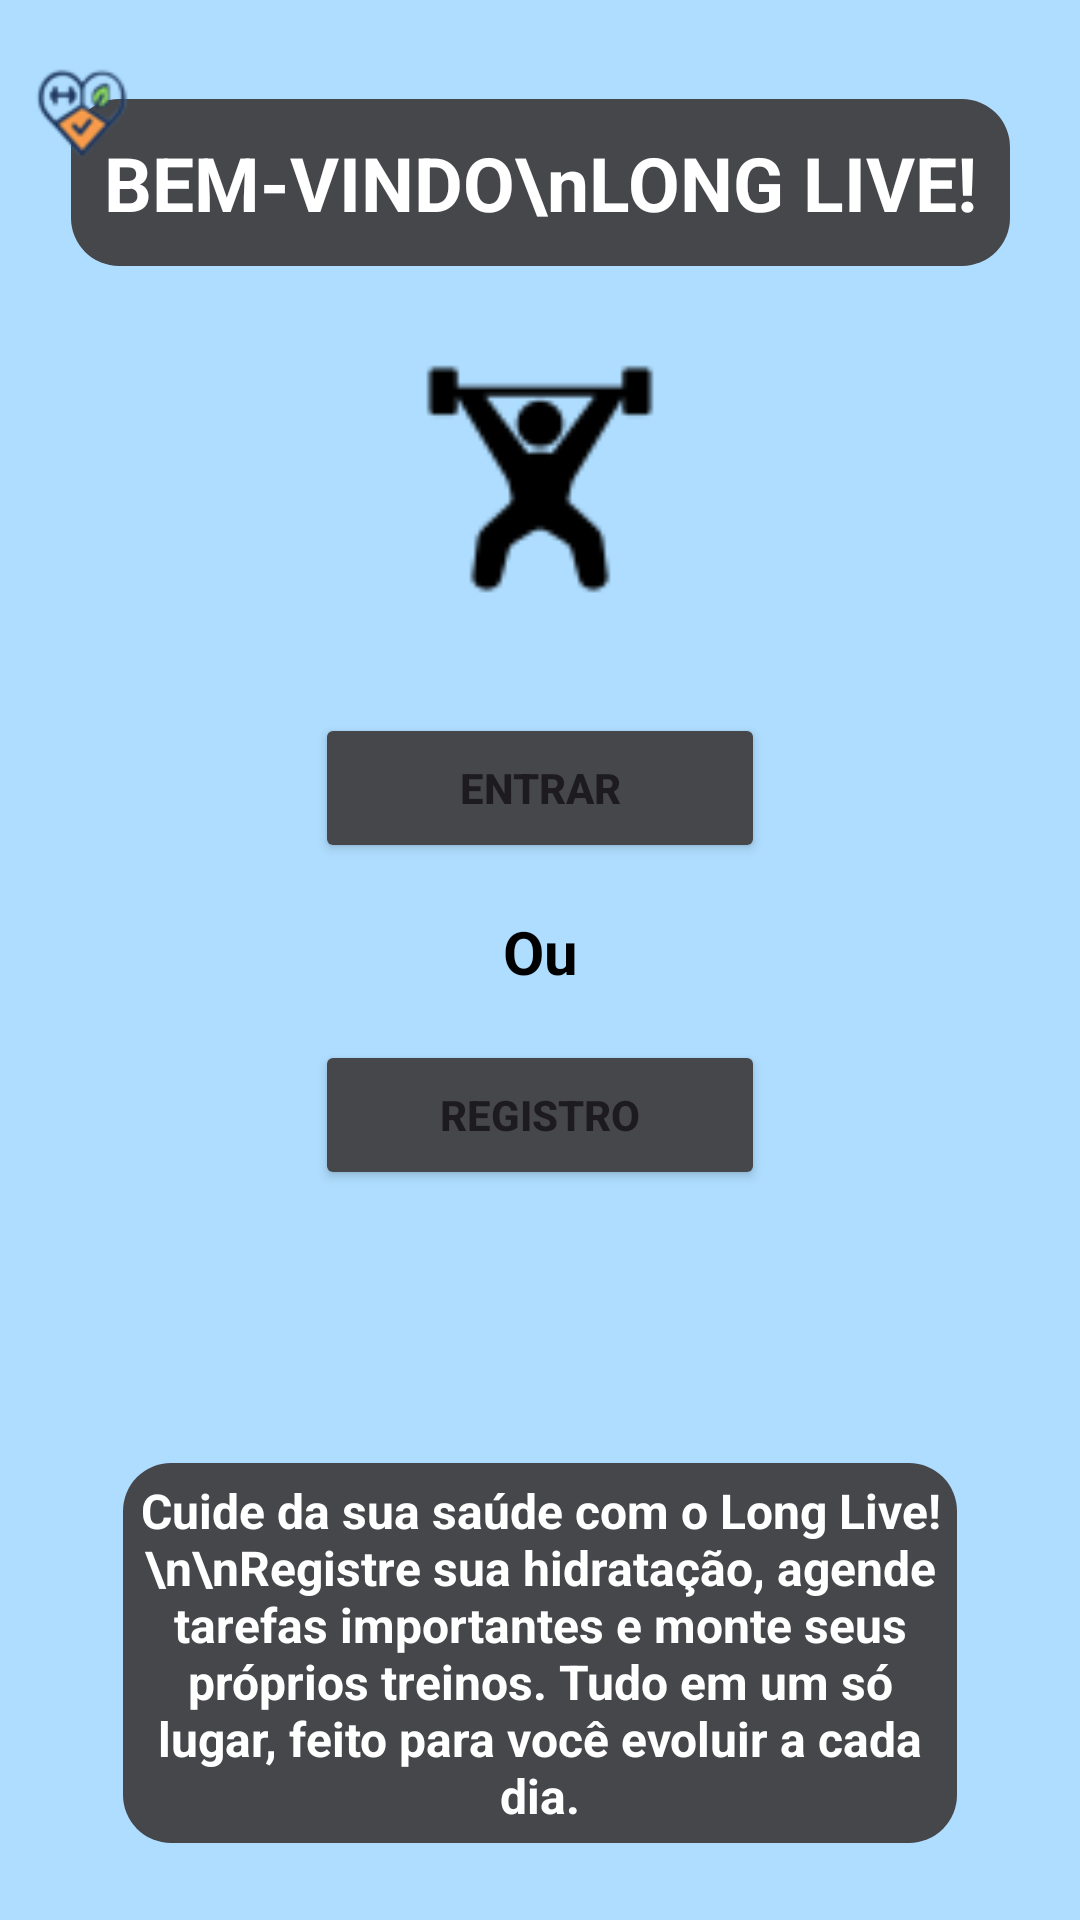

Screen size 1080*1920. Icon name, then its box in pixels as {"x1": x1, "y1": y1, "x2": x2, "y2": y2}:
treino: {"x1": 426, "y1": 365, "x2": 654, "y2": 593}
